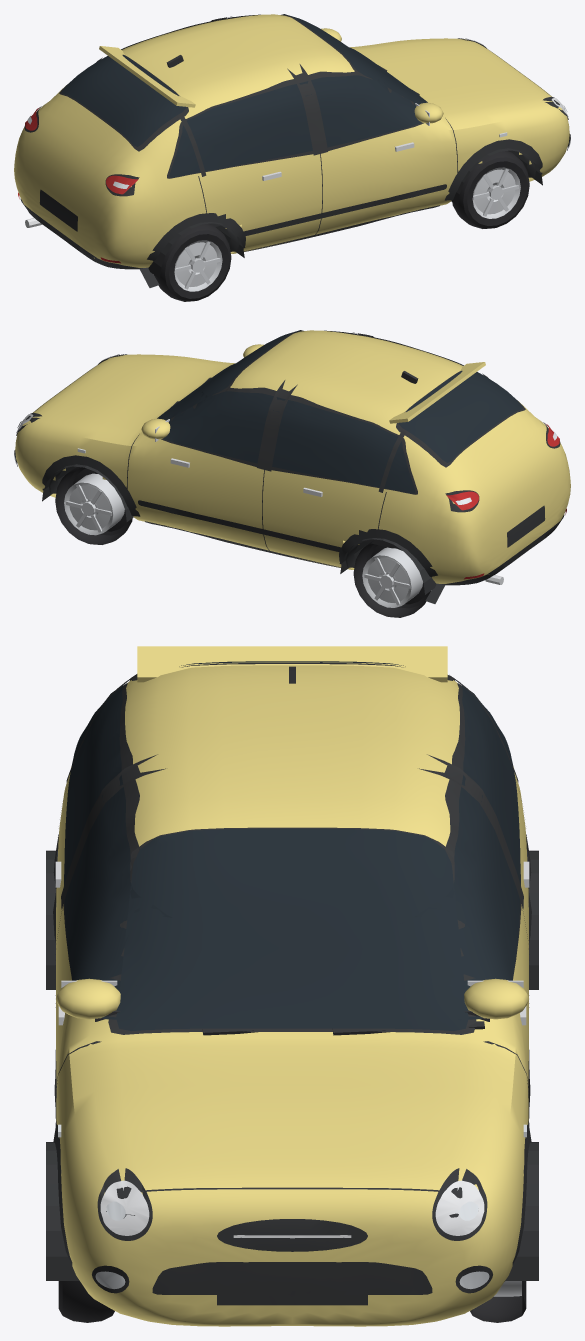
The model's file is mistral.glb.
3 renders of one model, top to bottom at view 1: azimuth 30°, elevation 25°; view 2: azimuth 150°, elevation 25°; view 3: azimuth 270°, elevation 25°, orthographic. The views are drawn at different scales.
Visible parts, largest first — view 1: Body, Glass-1, RearGlass, WheelFR, WheelRR, Windshield, ArchTrim-1.001, WinFrame-1, ArchTrim-1, Bpillar-1, Rub-1, Spoiler (+8 smaller); view 2: Body, Glass1, RearGlass, WheelFL, WheelRL, Windshield, ArchTrim1.001, WinFrame1, ArchTrim1, Bpillar1, Rub1, Spoiler (+8 smaller); view 3: Body, Windshield, Glass1, Glass-1, Intake, Spoiler, Grille, HeadReflector, WsFrame, ArchLiner, ArchLiner.001, HeadBezel (+12 smaller).
Part boxes in pixels (x1,y1,x2,y2): Body: (14, 14, 569, 267); Glass-1: (169, 75, 421, 177); RearGlass: (61, 55, 185, 146); WheelFR: (452, 151, 529, 228); WheelRR: (154, 223, 231, 301); Windshield: (283, 14, 427, 104); ArchTrim-1.001: (139, 213, 245, 287); WinFrame-1: (167, 71, 423, 178); ArchTrim-1: (444, 139, 542, 200); Bpillar-1: (287, 64, 327, 155); Rub-1: (242, 184, 446, 236); Spoiler: (99, 46, 195, 107); Body: (15, 330, 570, 583); Glass1: (163, 391, 415, 493); RearGlass: (399, 371, 523, 462); WheelFL: (55, 467, 132, 544); WheelRL: (353, 540, 430, 617); Windshield: (157, 330, 301, 420); ArchTrim1.001: (339, 529, 445, 603); WinFrame1: (161, 387, 417, 494); ArchTrim1: (42, 455, 140, 516); Bpillar1: (257, 380, 297, 471); Rub1: (138, 500, 342, 552); Spoiler: (389, 362, 485, 423); Body: (56, 665, 528, 1326); Windshield: (116, 828, 468, 1031); Glass1: (402, 686, 520, 1020); Glass-1: (64, 686, 172, 1020); Intake: (152, 1262, 432, 1295); Spoiler: (137, 646, 447, 682); Grille: (217, 1219, 367, 1251); HeadReflector: (100, 1180, 484, 1235); WsFrame: (108, 827, 476, 1034); ArchLiner: (505, 1142, 538, 1280); ArchLiner.001: (46, 1142, 79, 1280); HeadBezel: (97, 1168, 487, 1240).
Size of the model in its own units: 3.89 by 1.55 by 1.76.
